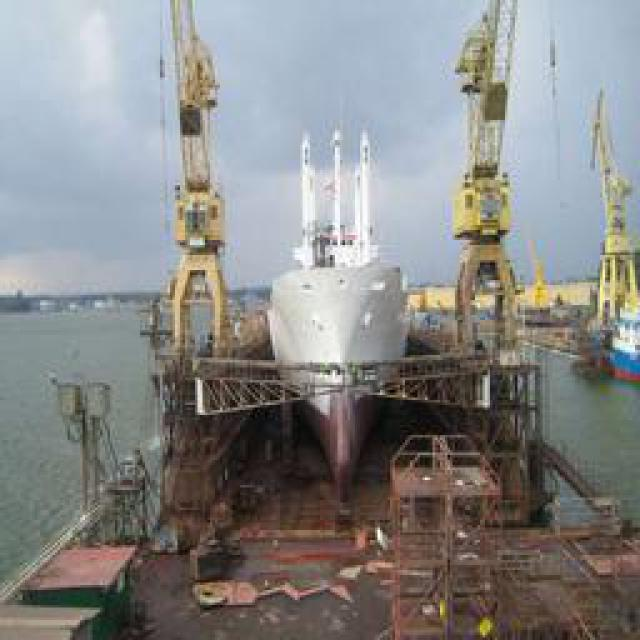Ship: (587, 96, 640, 386)
